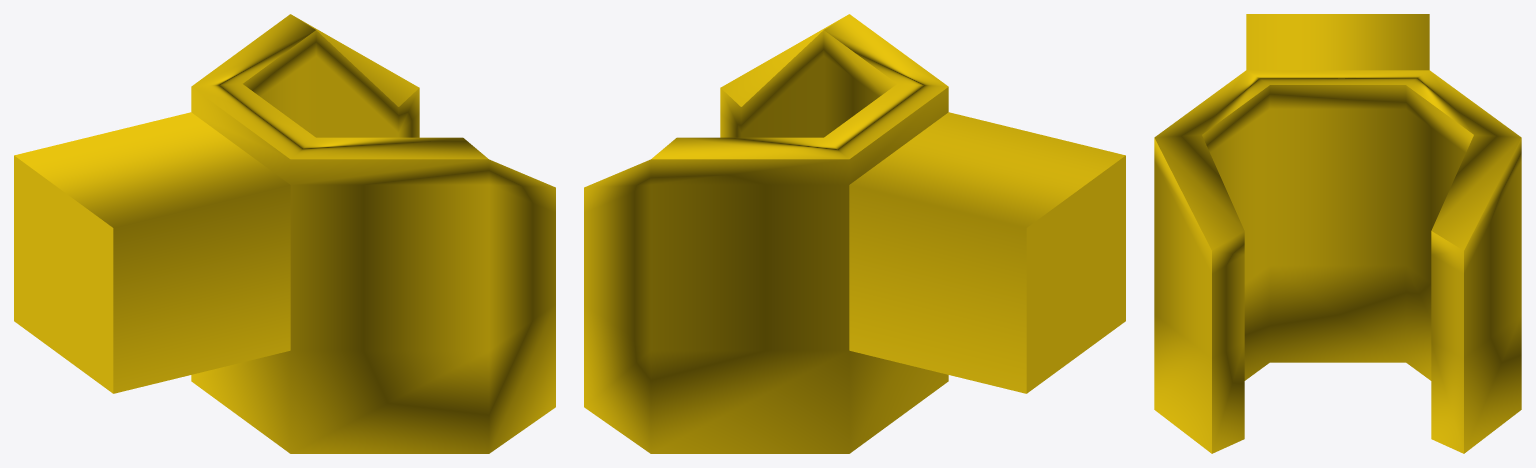
Rendered from hand.dae.
3 renders of one model, left to right at view 1: azimuth 30°, elevation 25°; view 2: azimuth 150°, elevation 25°; view 3: azimuth 270°, elevation 25°, orthographic. The views are drawn at different scales.
Parts seen in each view (by area): view 1: Cylinder; view 2: Cylinder; view 3: Cylinder.
Boxes of the visible parts, x1,y1,x2,y2 form: Cylinder: [14, 14, 555, 453]; Cylinder: [584, 14, 1125, 453]; Cylinder: [1154, 14, 1521, 453].
Size of the model in its own units: 1.02 by 0.8269 by 0.6895.
